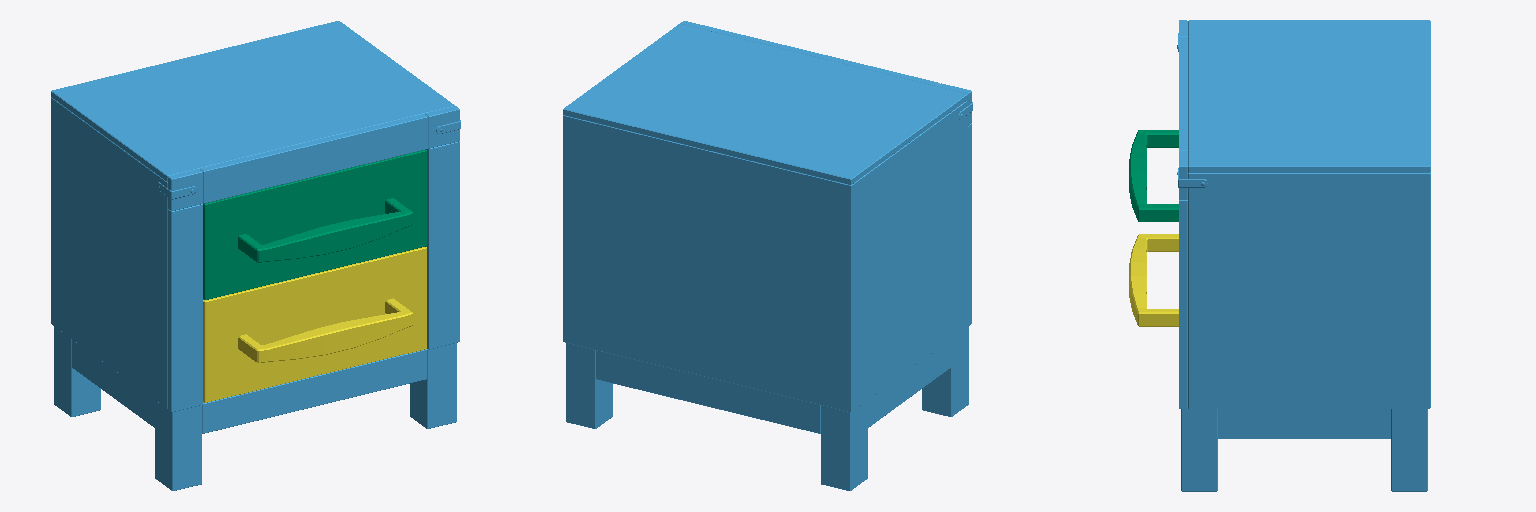
URDF robot description (drawer):
<robot name="drawer">
  <link name="root" />
  <joint name="root_rotation" type="fixed">
    <origin rpy="0 0 0" xyz="0 0 0" />
    <parent link="root" />
    <child link="Nightstand0061" />
  </joint>
  <link name="Nightstand0061">
    <collision>
      <origin rpy="0.000000 -0.000000 0.000000" xyz="0 0.00910774 0.32143194" />
      <geometry>
        <box size="0.32410399 0.235711997 0.0347999992" />
      </geometry>
    </collision>
    <collision>
      <origin rpy="0.000000 -0.000000 0.000000" xyz="0 0.00910774 0.07252958" />
      <geometry>
        <box size="0.319347996 0.230956003 0.0331759998" />
      </geometry>
    </collision>
    <collision>
      <origin rpy="0.000000 -0.000000 0.000000" xyz="0.14425296 0.00910774 0.1966113" />
      <geometry>
        <box size="0.035612 0.235711997 0.216166003" />
      </geometry>
    </collision>
    <collision>
      <origin rpy="0.000000 -0.000000 0.000000" xyz="-0.14425238 0.00910774 0.1965533" />
      <geometry>
        <box size="0.035612 0.235711997 0.216050001" />
      </geometry>
    </collision>
    <collision>
      <origin rpy="0.000000 -0.000000 0.000000" xyz="0.00029058 0.12299364 0.19685026" />
      <geometry>
        <box size="0.253866002 0.00794600001 0.216629994" />
      </geometry>
    </collision>
    <collision>
      <origin rpy="0.000000 -0.000000 0.000000" xyz="0.14285748 -0.08925794 0.02961828" />
      <geometry>
        <box size="0.033639999 0.0342200002 0.0549260007" />
      </geometry>
    </collision>
    <collision>
      <origin rpy="0.000000 -0.000000 0.000000" xyz="0.14285748 0.10747342 0.02948836" />
      <geometry>
        <box size="0.033639999 0.0342200002 0.0546360001" />
      </geometry>
    </collision>
    <collision>
      <origin rpy="0.000000 -0.000000 0.000000" xyz="-0.14285748 -0.08925794 0.02920648" />
      <geometry>
        <box size="0.033639999 0.0342200002 0.0540559989" />
      </geometry>
    </collision>
    <collision>
      <origin rpy="0.000000 -0.000000 0.000000" xyz="-0.14285748 0.10747342 0.02920996" />
      <geometry>
        <box size="0.033639999 0.0342200002 0.0540559989" />
      </geometry>
    </collision>
    <visual>
      <origin xyz="0 0 0" rpy="0 0 0" />
      <geometry>
        <mesh filename="drawer_meshes/Nightstand0061/part_00/mesh.obj" scale="0.58 0.58 0.58" />
      </geometry>
    </visual>
    <visual>
      <origin xyz="0 0 0" rpy="0 0 0" />
      <geometry>
        <mesh filename="drawer_meshes/Nightstand0061/part_01/mesh.obj" scale="0.58 0.58 0.58" />
      </geometry>
    </visual>
    <inertial>
      <origin xyz="-1.653e-07 0.0084245493 0.169417991" rpy="0 0 0" />
      <mass value="1.8" />
      <inertia ixx="0.025652366" ixy="0" ixz="0" iyy="0.0332963945" iyz="0" izz="0.0245058136" />
    </inertial>
  </link>
  <link name="Nightstand0061_drawer01">
    <collision>
      <origin rpy="0.000000 -0.000000 0.000000" xyz="6.96e-06 0.00087812 -0.00012818" />
      <geometry>
        <box size="0.250328003 0.00881600015 0.103124" />
      </geometry>
    </collision>
    <collision>
      <origin rpy="0.000000 -0.000000 0.000000" xyz="0.10923024 0.11408774 -0.0087" />
      <geometry>
        <box size="0.0110199996 0.218138002 0.0718040012" />
      </geometry>
    </collision>
    <collision>
      <origin rpy="0.000000 -0.000000 0.000000" xyz="-0.10923024 0.11408426 -0.0087" />
      <geometry>
        <box size="0.0110199996 0.218138002 0.0718040012" />
      </geometry>
    </collision>
    <collision>
      <origin rpy="0.000000 -0.000000 0.000000" xyz="1.914e-05 0.2176479 -0.0087" />
      <geometry>
        <box size="0.208974003 0.0110199996 0.0718040012" />
      </geometry>
    </collision>
    <collision>
      <origin rpy="0.000000 -0.000000 0.000000" xyz="5.51e-05 0.10912468 -0.03907924" />
      <geometry>
        <box size="0.209437993 0.207930002 0.0110199996" />
      </geometry>
    </collision>
    <visual>
      <origin xyz="0 0 0" rpy="0 0 0" />
      <geometry>
        <mesh filename="drawer_meshes/Nightstand0061_drawer01/part_00/mesh.obj" scale="0.58 0.58 0.58" />
      </geometry>
    </visual>
    <collision name="graspable_handle_bar_Nightstand0061_drawer01">
      <origin xyz="4.11278e-05 -0.0448024538 0.0019672034" rpy="0 0 0" />
      <geometry>
        <box size="0.175594745 0.0092645256 0.02334877" />
      </geometry>
    </collision>
    <collision name="graspable_handle_support_a_Nightstand0061_drawer01">
      <origin xyz="-0.0789765074 -0.021742199 0.0019672208" rpy="0 0 0" />
      <geometry>
        <box size="0.0175594745 0.0553850352 0.0233488048" />
      </geometry>
    </collision>
    <collision name="graspable_handle_support_b_Nightstand0061_drawer01">
      <origin xyz="0.079058763 -0.021742199 0.0019672208" rpy="0 0 0" />
      <geometry>
        <box size="0.0175594745 0.0553850352 0.0233488048" />
      </geometry>
    </collision>
    <visual>
      <origin xyz="0 0 0" rpy="0 0 0" />
      <geometry>
        <mesh filename="drawer_meshes/Nightstand0061_drawer01/part_01/mesh.obj" scale="0.58 0.58 0.58" />
      </geometry>
    </visual>
    <inertial>
      <origin xyz="-2.668e-06 0.086861612 -0.0001284671" rpy="0 0 0" />
      <mass value="0.35" />
      <inertia ixx="0.00247730306" ixy="0" ixz="0" iyy="0.0021382018" iyz="0" izz="0.00399545956" />
    </inertial>
  </link>
  <link name="Nightstand0061_drawer02">
    <collision>
      <origin rpy="0.000000 -0.000000 0.000000" xyz="-2.32e-06 0.00083636 -9.338e-05" />
      <geometry>
        <box size="0.250385995 0.00881600015 0.108982004" />
      </geometry>
    </collision>
    <collision>
      <origin rpy="0.000000 -0.000000 0.000000" xyz="0.10923024 0.11406454 -0.0087" />
      <geometry>
        <box size="0.0110199996 0.218195994 0.077662001" />
      </geometry>
    </collision>
    <collision>
      <origin rpy="0.000000 -0.000000 0.000000" xyz="-0.10923024 0.11407498 -0.0087" />
      <geometry>
        <box size="0.0110199996 0.218138002 0.077662001" />
      </geometry>
    </collision>
    <collision>
      <origin rpy="0.000000 -0.000000 0.000000" xyz="-0.00016646 0.2176479 -0.0087" />
      <geometry>
        <box size="0.209263999 0.0110199996 0.077662001" />
      </geometry>
    </collision>
    <collision>
      <origin rpy="0.000000 -0.000000 0.000000" xyz="-0.00017922 0.10932188 -0.0420239" />
      <geometry>
        <box size="0.209090005 0.208393993 0.0110199996" />
      </geometry>
    </collision>
    <visual>
      <origin xyz="0 0 0" rpy="0 0 0" />
      <geometry>
        <mesh filename="drawer_meshes/Nightstand0061_drawer02/part_00/mesh.obj" scale="0.58 0.58 0.58" />
      </geometry>
    </visual>
    <collision name="graspable_handle_bar_Nightstand0061_drawer02">
      <origin xyz="4.1238e-05 -0.0448441094 0.0015034992" rpy="0 0 0" />
      <geometry>
        <box size="0.175594745 0.009264514 0.0233487352" />
      </geometry>
    </collision>
    <collision name="graspable_handle_support_a_Nightstand0061_drawer02">
      <origin xyz="-0.0789763972 -0.0217838488 0.0015034992" rpy="0 0 0" />
      <geometry>
        <box size="0.0175594745 0.0553850352 0.0233487352" />
      </geometry>
    </collision>
    <collision name="graspable_handle_support_b_Nightstand0061_drawer02">
      <origin xyz="0.0790588732 -0.0217838488 0.0015034992" rpy="0 0 0" />
      <geometry>
        <box size="0.0175594745 0.0553850352 0.0233487352" />
      </geometry>
    </collision>
    <visual>
      <origin xyz="0 0 0" rpy="0 0 0" />
      <geometry>
        <mesh filename="drawer_meshes/Nightstand0061_drawer02/part_01/mesh.obj" scale="0.58 0.58 0.58" />
      </geometry>
    </visual>
    <inertial>
      <origin xyz="-2.552e-06 0.0868407871 -9.32176e-05" rpy="0 0 0" />
      <mass value="0.35" />
      <inertia ixx="0.00251439161" ixy="0" ixz="0" iyy="0.00217462802" iyz="0" izz="0.00399612189" />
    </inertial>
  </link>
  <joint name="Nightstand0061_drawer01" type="prismatic">
    <parent link="Nightstand0061" />
    <child link="Nightstand0061_drawer01" />
    <axis xyz="0.000000 -1.000000 0.000000" />
    <limit effort="100.0000" lower="-0" upper="0.210622245" velocity="0.5" />
    <origin rpy="0 0 0" xyz="2.9e-06 -0.10522128 0.25162952" />
    <dynamics damping="0.8" friction="0.2" />
  </joint>
  <joint name="Nightstand0061_drawer02" type="prismatic">
    <parent link="Nightstand0061" />
    <child link="Nightstand0061_drawer02" />
    <axis xyz="0.000000 -1.000000 0.000000" />
    <limit effort="100.0000" lower="-0" upper="0.210622245" velocity="0.5" />
    <origin rpy="0 0 0" xyz="2.32e-06 -0.10517952 0.144391" />
    <dynamics damping="0.8" friction="0.2" />
  </joint>
</robot>

--- Render facts (derived) ---
The picture shows the robot from 3 angles, left to right: view 1: azimuth 30°, elevation 25°; view 2: azimuth 150°, elevation 25°; view 3: azimuth 270°, elevation 25°; orthographic projection.
Model drawer with 4 links and 3 joints (2 prismatic, 1 fixed), rooted at root, posed every joint at zero.
Visible links, largest first — view 1: Nightstand0061, Nightstand0061_drawer02, Nightstand0061_drawer01; view 2: Nightstand0061; view 3: Nightstand0061, Nightstand0061_drawer02, Nightstand0061_drawer01.
Link boxes in pixels (x1,y1,x2,y2): Nightstand0061: (51, 21, 460, 490); Nightstand0061_drawer02: (203, 247, 426, 402); Nightstand0061_drawer01: (203, 150, 426, 299); Nightstand0061: (563, 21, 972, 490); Nightstand0061: (1177, 20, 1430, 491); Nightstand0061_drawer02: (1129, 234, 1178, 326); Nightstand0061_drawer01: (1129, 130, 1178, 221).
Size in the robot's own frame: 0.3274 by 0.2816 by 0.3388 metres.
6 mesh visuals loaded from 6 distinct referenced files (6 OBJ).
